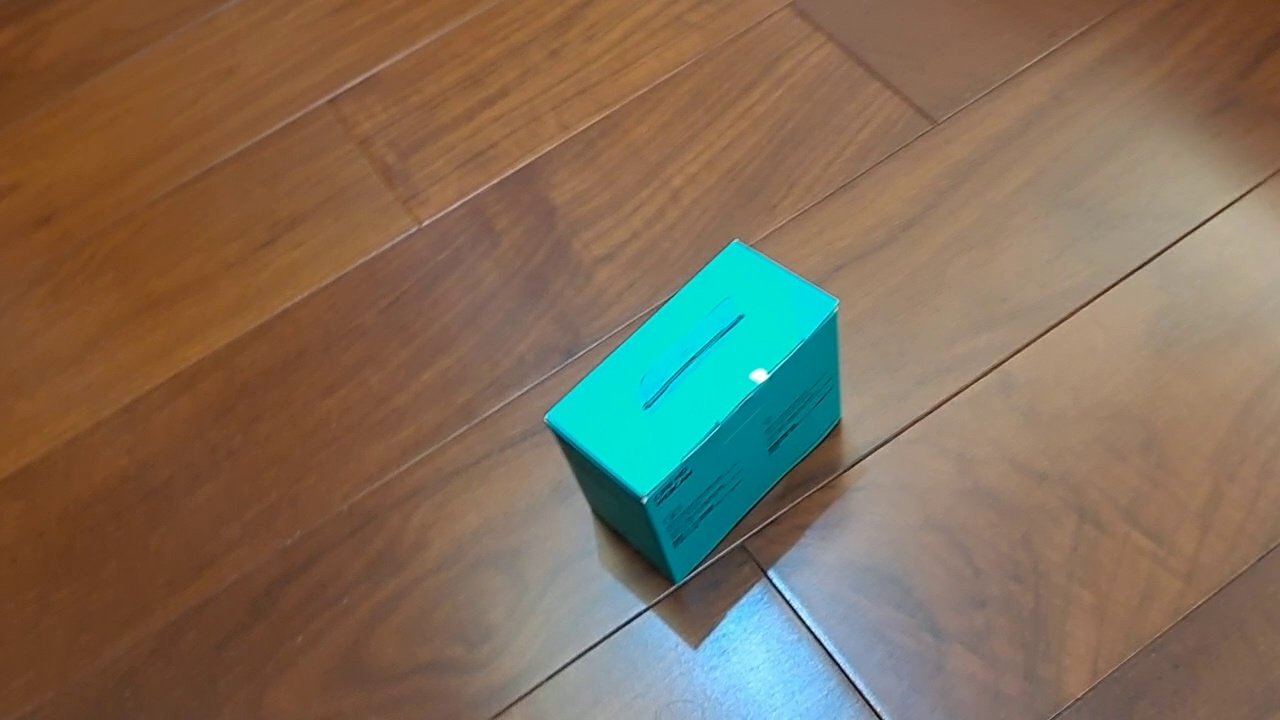webcam: (542, 236, 844, 587)
